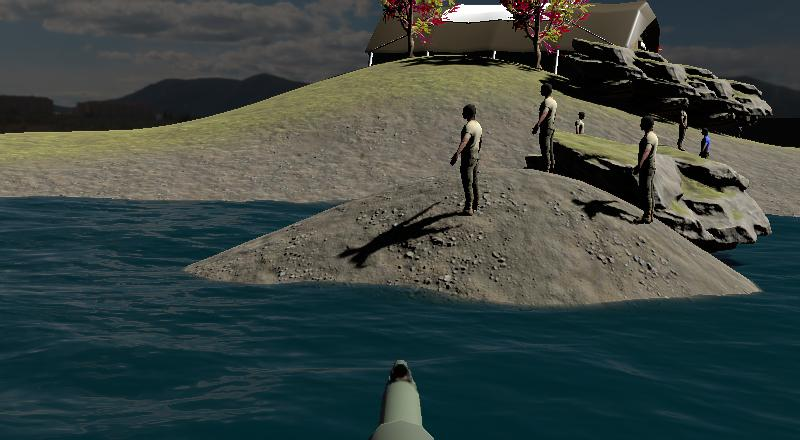Human: (448, 101, 488, 219), (630, 109, 662, 228), (529, 78, 564, 178), (697, 126, 712, 162)
